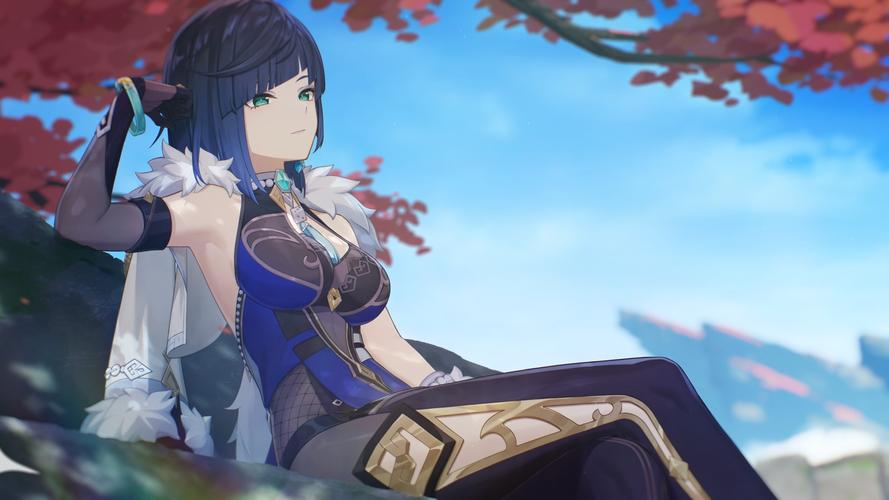夜兰: (59, 5, 787, 500)
